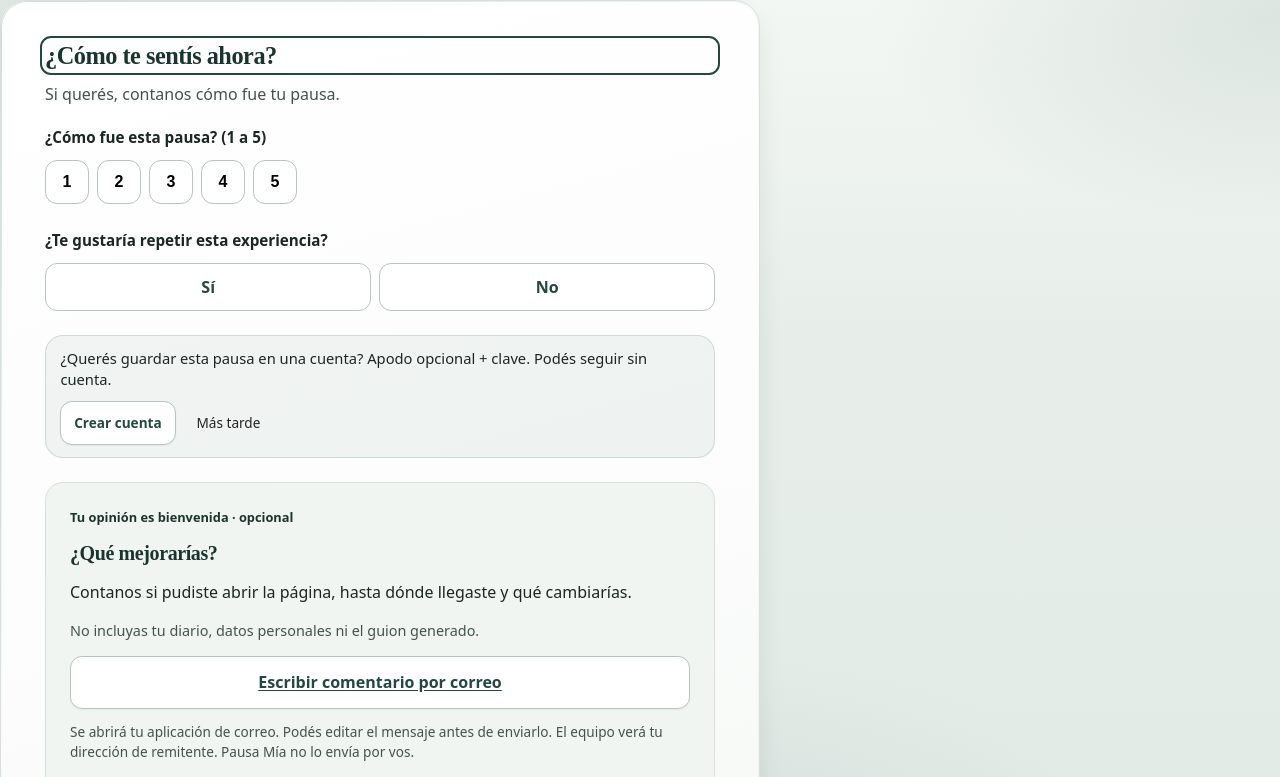
Test: FeedbackStep soft account nudge › al elegir Crear cuenta muestra AccountPanel abierto debajo
Click the button "Crear cuenta".
click(118, 423)  # box [60,401,176,445]
(page scrolled)
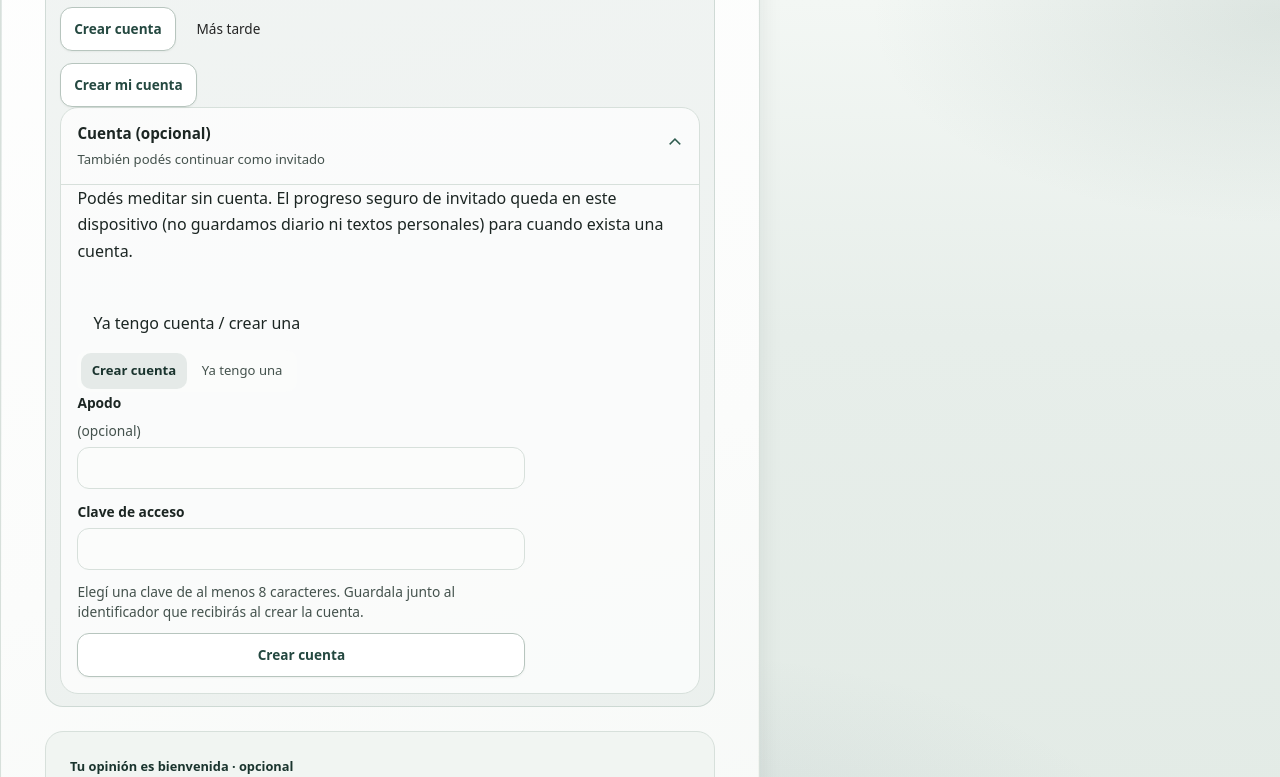
expect the text "Cuenta (opcional)" is shown: met, box [77,123,211,143]
expect the element with class "account-panel" is shown: met, box [60,107,700,694]
